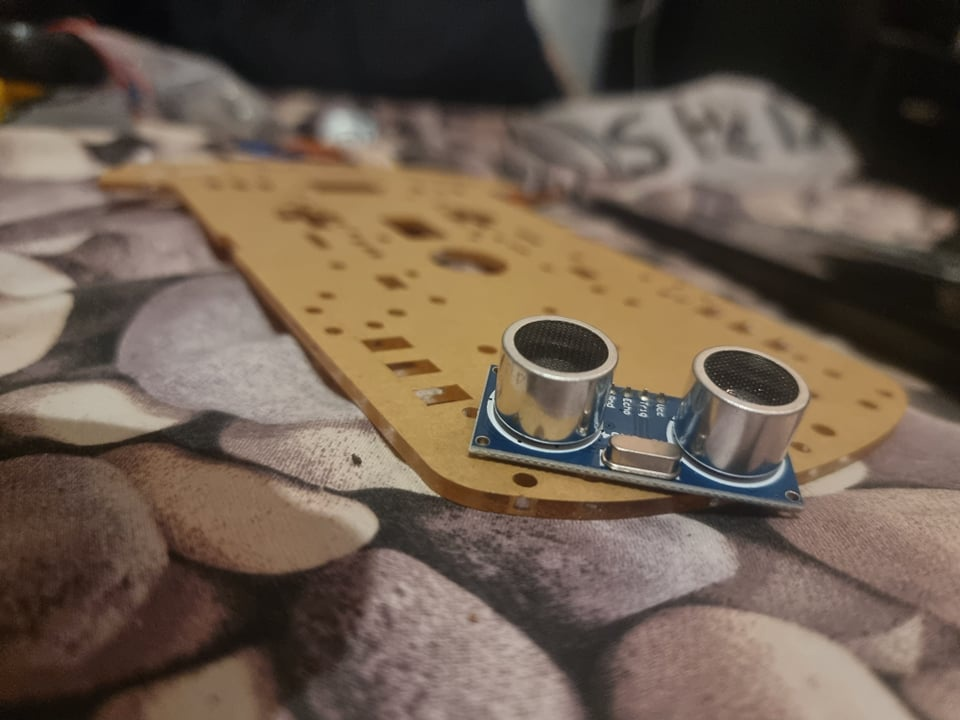SENSOR: (465, 316, 811, 512)
